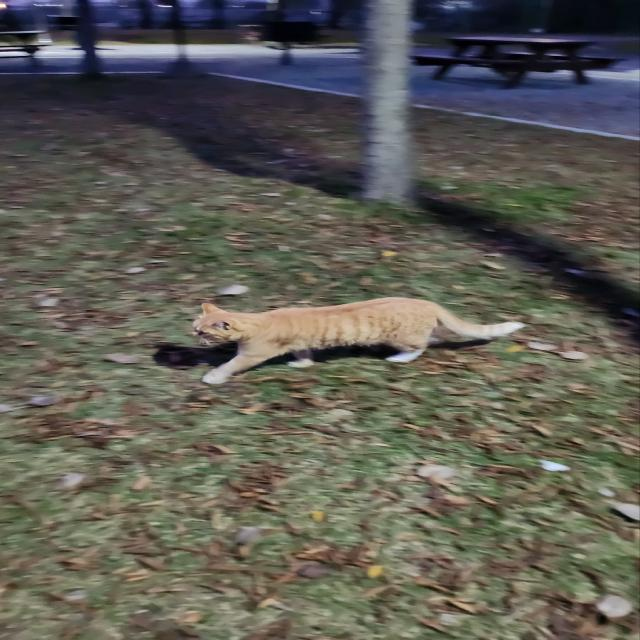cat: (182, 297, 525, 380)
